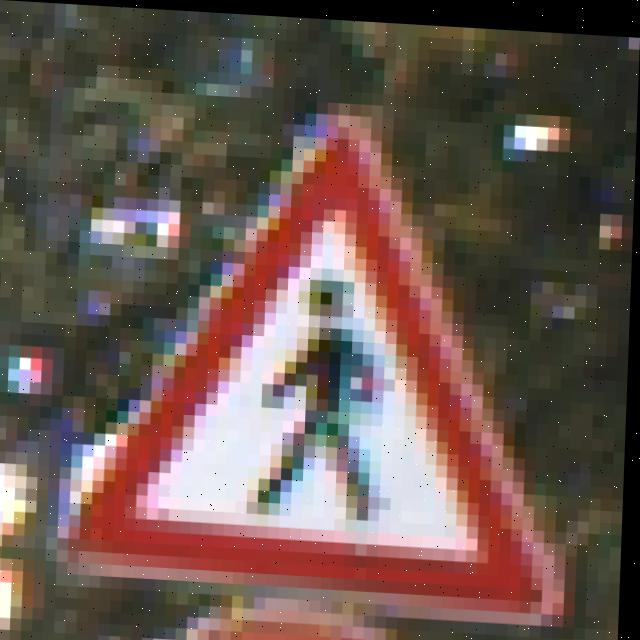crosswalk: (99, 137, 596, 622)
